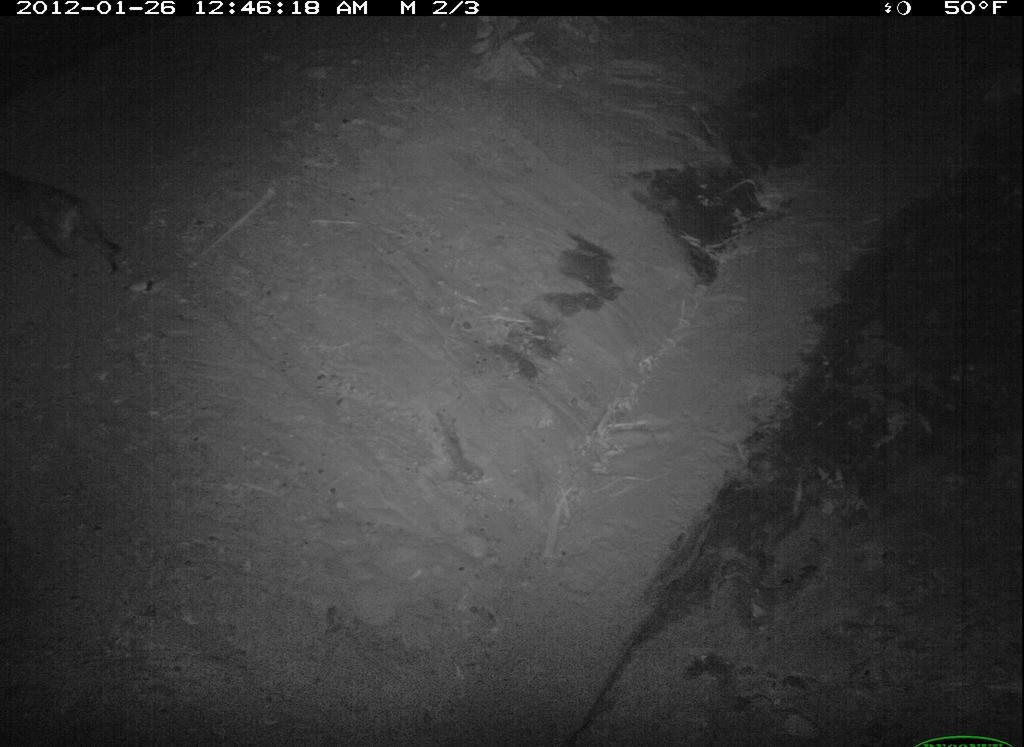cat: (1, 161, 131, 279)
